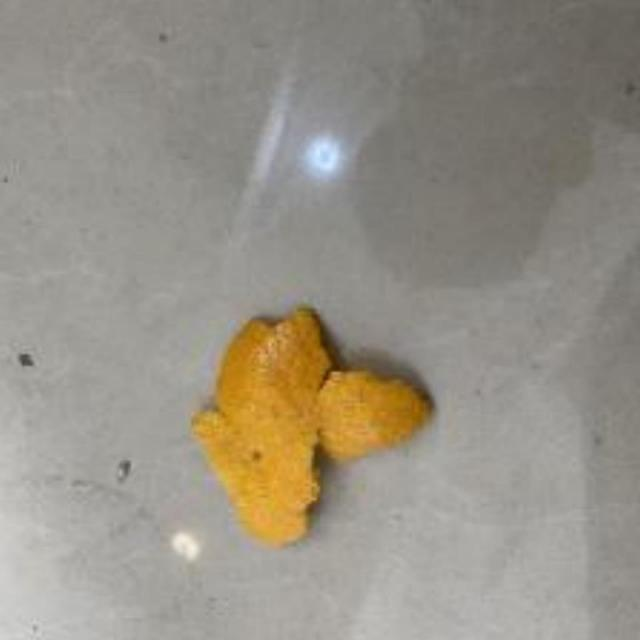orange peel: (192, 311, 431, 552)
